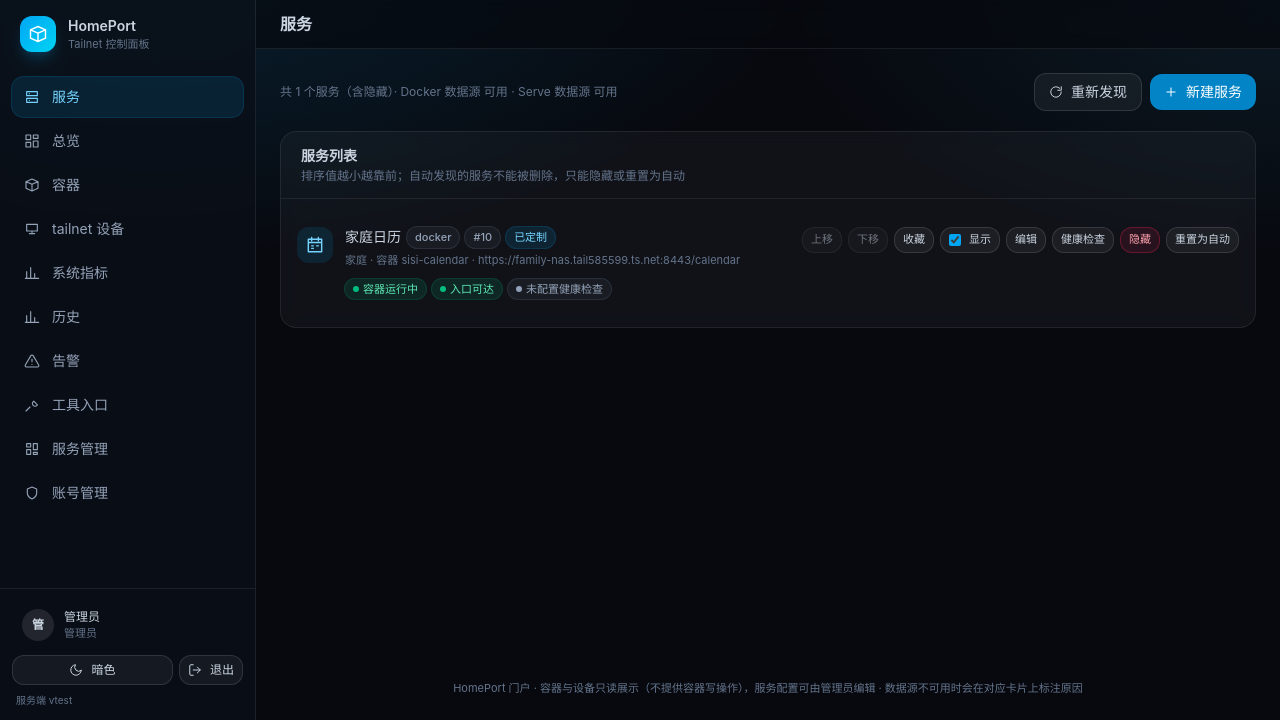
服务管理页 · 列表与按钮契约 › 点「编辑」打开 Modal，表单使用固定的输入 id
The image size is (1280, 720).
Check: the link "家庭日历" is shown, box [345,227,401,247]
Click the button "编辑" at (1026, 240), box [1006,227,1046,253]
(page scrolled)
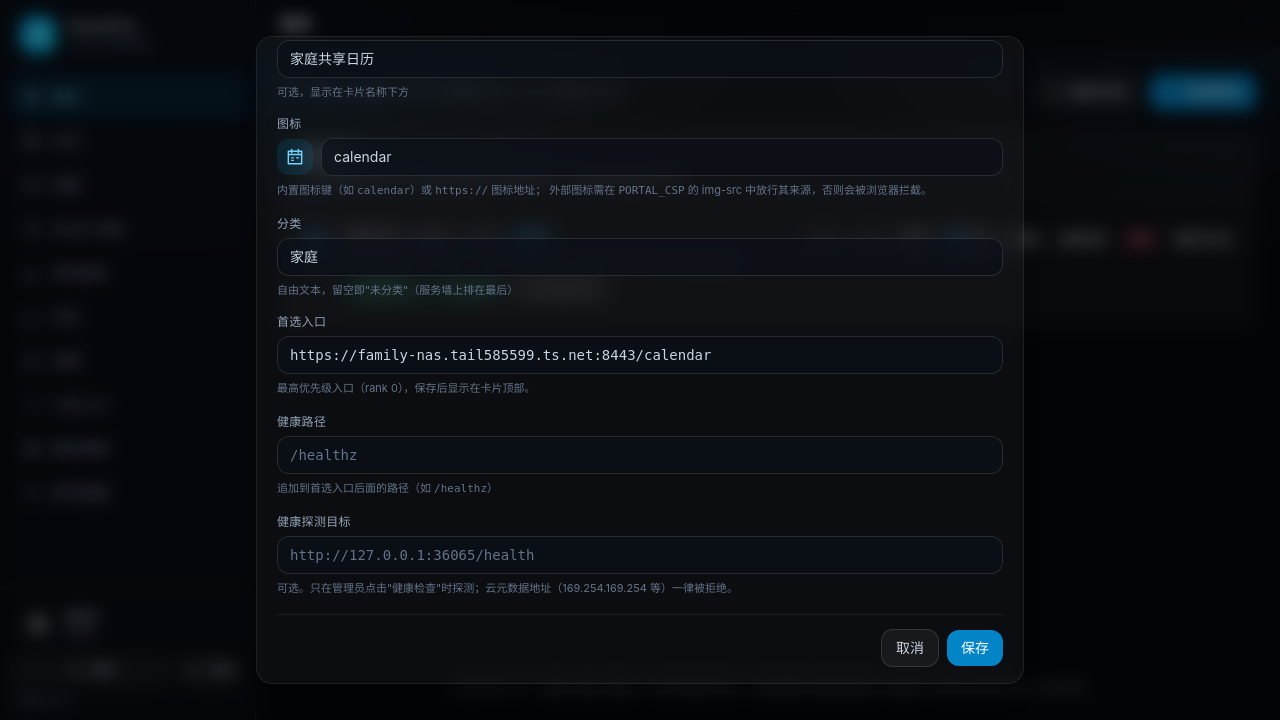
Check: the button "保存" is shown, box [947,630,1003,666]
Check: the button "取消" is shown, box [881,629,939,667]
// Esc 关闭并归还焦点（Modal 的统一行为）
Press Escape
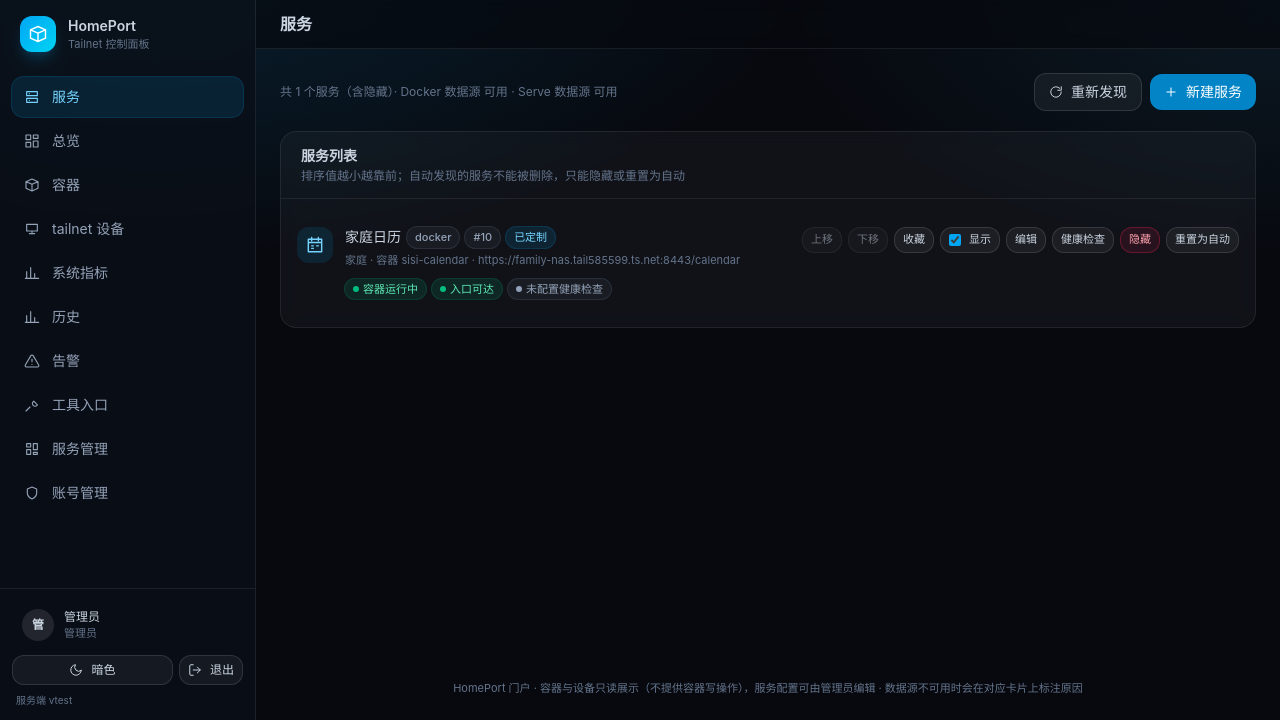
Check: the dialog is gone
